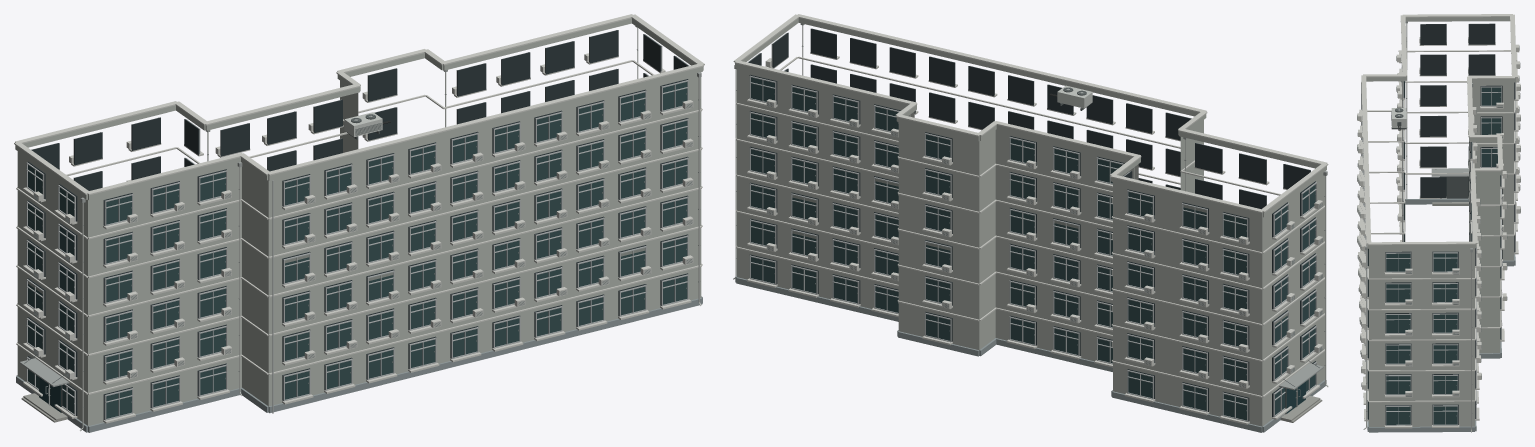
File: osm_way_223859790.glb
3 views of the same model, side by side, from view 1: azimuth 30°, elevation 25°; view 2: azimuth 150°, elevation 25°; view 3: azimuth 270°, elevation 25° (orthographic). The views are drawn at different scales.
Visible parts, largest first — view 1: Architecture | 20, Windows and facade details | 20, Roof services | 20, EXTERIOR::osm_way_223859790::rainwater and roof service deta, EXTERIOR::osm_way_223859790::inferred entry doors canopy and; view 2: Architecture | 20, Windows and facade details | 20, Roof services | 20, EXTERIOR::osm_way_223859790::rainwater and roof service deta, EXTERIOR::osm_way_223859790::inferred entry doors canopy and, EXTERIOR::osm_way_223859790::native pane seals and hardware; view 3: Architecture | 20, Windows and facade details | 20, Roof services | 20, EXTERIOR::osm_way_223859790::rainwater and roof service deta, EXTERIOR::osm_way_223859790::inferred entry doors canopy and.
Part boxes in pixels (box(x1,y1,x2,y2)): Architecture | 20: box(15, 18, 703, 432); Windows and facade details | 20: box(23, 30, 693, 423); Roof services | 20: box(14, 14, 704, 195); EXTERIOR::osm_way_223859790::rainwater and roof service deta: box(80, 26, 701, 431); EXTERIOR::osm_way_223859790::inferred entry doors canopy and: box(19, 355, 69, 422); Architecture | 20: box(735, 18, 1326, 432); Windows and facade details | 20: box(747, 28, 1322, 424); Roof services | 20: box(733, 14, 1328, 212); EXTERIOR::osm_way_223859790::rainwater and roof service deta: box(733, 23, 1328, 386); EXTERIOR::osm_way_223859790::inferred entry doors canopy and: box(1279, 360, 1323, 422); EXTERIOR::osm_way_223859790::native pane seals and hardware: box(774, 93, 1315, 410); Architecture | 20: box(1366, 17, 1515, 432); Windows and facade details | 20: box(1357, 23, 1520, 428); Roof services | 20: box(1361, 14, 1516, 245); EXTERIOR::osm_way_223859790::rainwater and roof service deta: box(1363, 21, 1476, 432); EXTERIOR::osm_way_223859790::inferred entry doors canopy and: box(1431, 168, 1468, 205).
Bounding box in the file's own units: 53.15 × 20.58 × 15.53.
